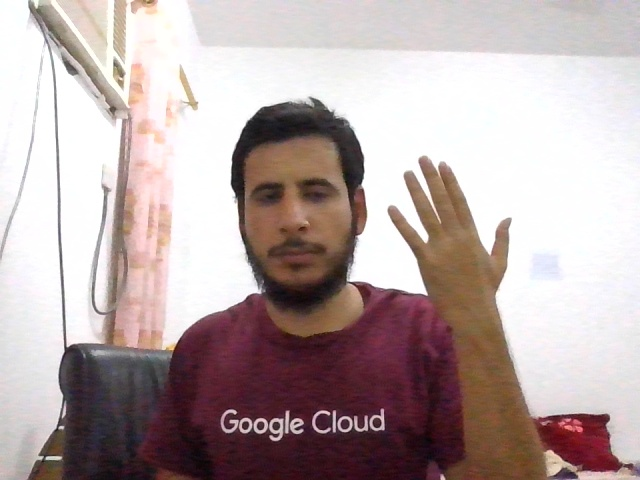Five: (387, 155, 512, 302)
